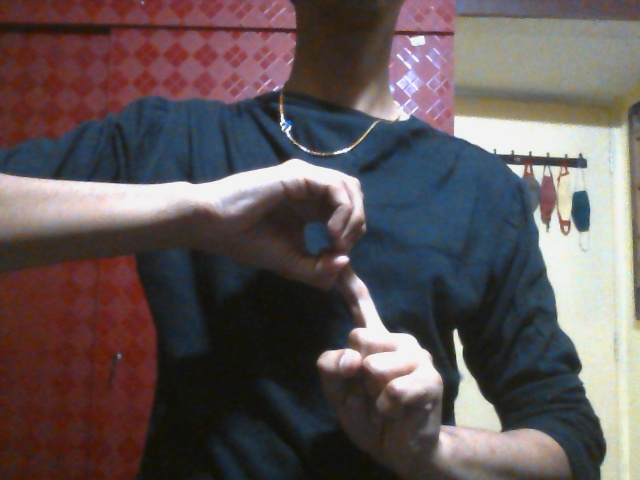Q: (213, 157, 445, 463)
